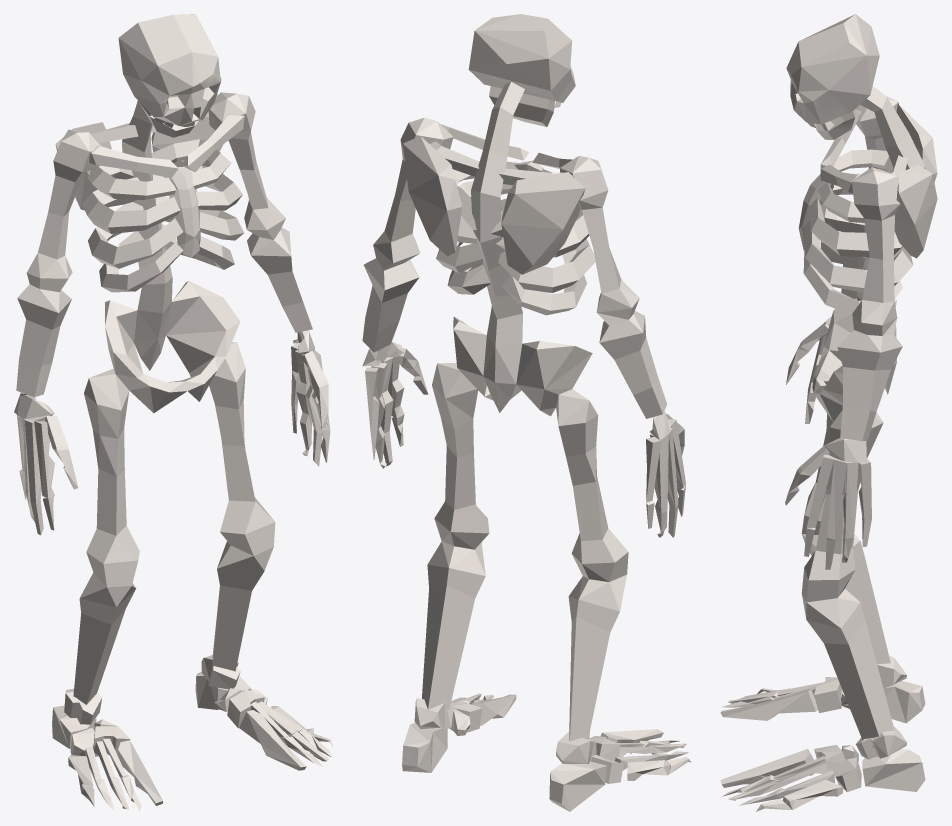
File: Skeleton_2.fbx
The picture shows the model from 3 angles, left to right: view 1: azimuth 30°, elevation 25°; view 2: azimuth 150°, elevation 25°; view 3: azimuth 270°, elevation 25°; orthographic projection. The views are drawn at different scales.
Parts seen in each view (by area): view 1: Skeleton_2; view 2: Skeleton_2; view 3: Skeleton_2.
Part boxes in pixels (bbox=[...]): Skeleton_2: bbox=[14, 14, 333, 811]; Skeleton_2: bbox=[362, 14, 691, 811]; Skeleton_2: bbox=[720, 14, 937, 811].
Bounding box in the file's own units: 63.71 × 152 × 40.8.
Materials: 1 (1 with a texture image).
